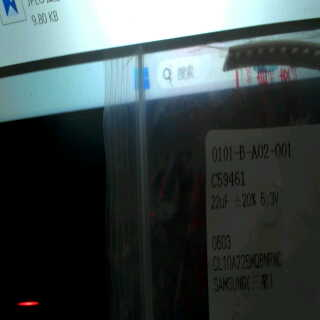22uF: (209, 192, 227, 212)
